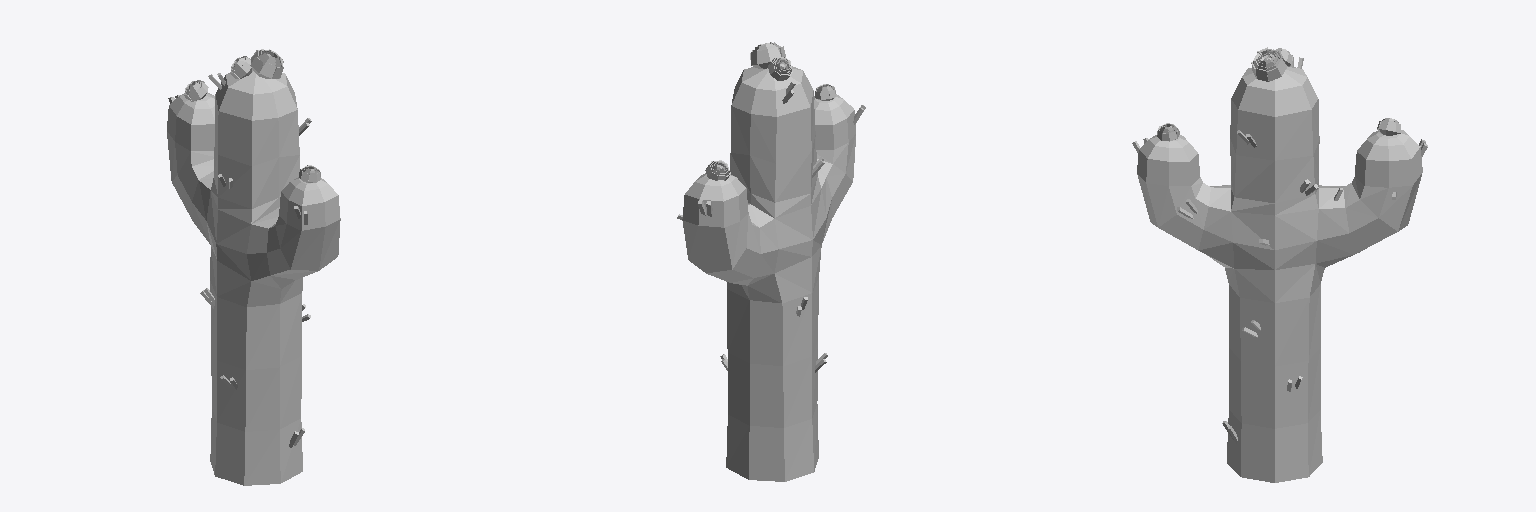
Rendered from Cactus.obj.
The picture shows the model from 3 angles: view 1: azimuth 30°, elevation 25°; view 2: azimuth 150°, elevation 25°; view 3: azimuth 270°, elevation 25°; orthographic projection.
Visible parts, largest first — view 1: Cactus_Circle.014; view 2: Cactus_Circle.014; view 3: Cactus_Circle.014.
Boxes of the visible parts, x1=… form: Cactus_Circle.014: x1=167, y1=49, x2=340, y2=485; Cactus_Circle.014: x1=677, y1=42, x2=865, y2=481; Cactus_Circle.014: x1=1132, y1=47, x2=1427, y2=482.
Size of the model in its own units: 2.38 by 10.02 by 6.47.